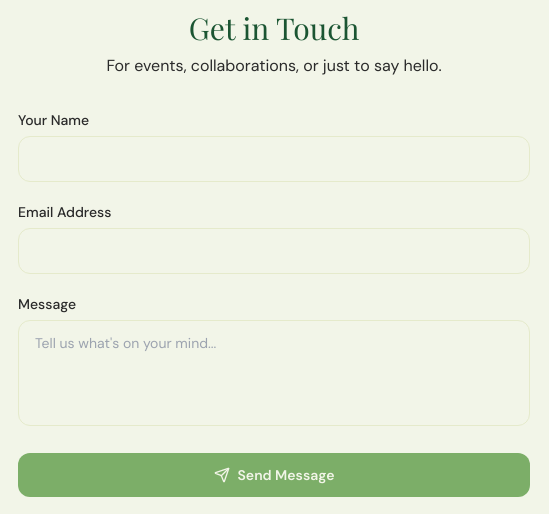
it: ContactSection › shows success message after form submission
The image size is (549, 514).
Type "Akansha" into the field labelled "Your Name" at {"x": 274, "y": 159}, box [18, 136, 530, 182]
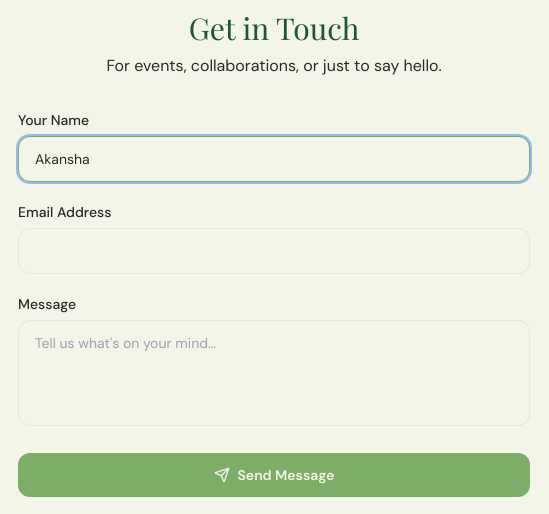
Type "a@example.com" into the field labelled "Email Address" at {"x": 274, "y": 251}, box [18, 228, 530, 274]
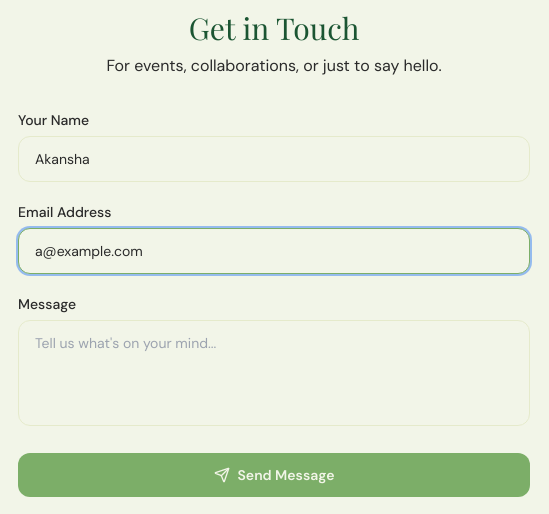
Type "Hello there!" into the text box labelled "Message" at {"x": 274, "y": 373}, box [18, 320, 530, 426]
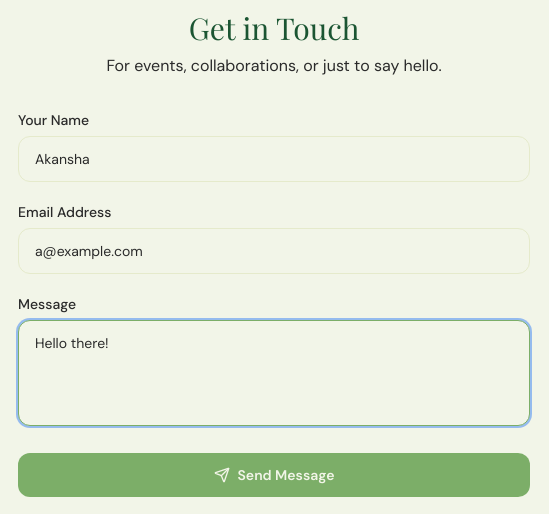
Click the button "Send Message" at {"x": 274, "y": 475}, box [18, 453, 530, 497]
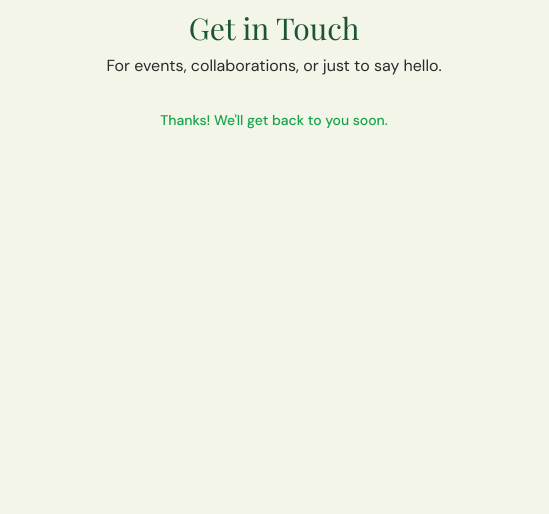
Expected: the text "Thanks! We'll get back to you soon." is shown, [160, 111, 388, 129]
